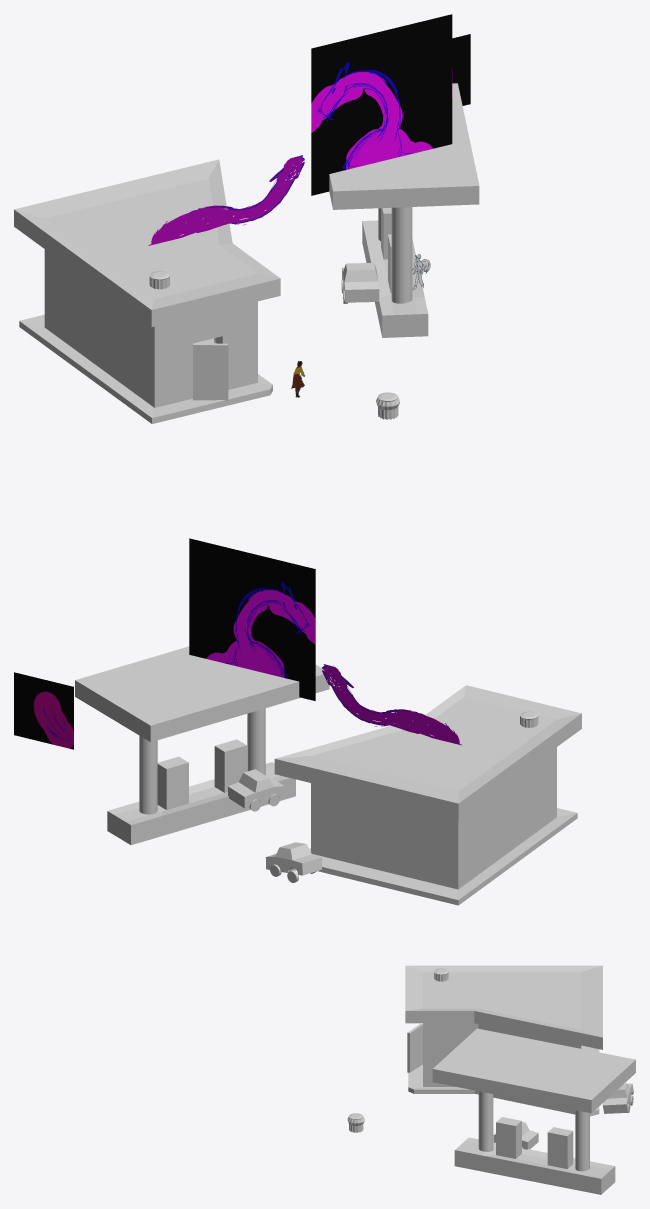
3 views of the same model, one above another, from view 1: azimuth 30°, elevation 25°; view 2: azimuth 150°, elevation 25°; view 3: azimuth 270°, elevation 25° (orthographic). The views are drawn at different scales.
Parts seen in each view (by area): view 1: building.001, right_dragon_front.001, carport_roof.001, carport_base.001, left_dragon.002, carport_pillar_near.001, door.001, car_body.001, right_dragon_tail.001; view 2: building.001, right_dragon_front.001, carport_roof.001, carport_base.001, right_dragon_tail.001, left_dragon.002, carport_pillar_far.001, car_body.001, wrecked_car_body.001, carport_pillar_near.001; view 3: building.001, carport_roof.001, carport_base.001, carport_pillar_near.001, carport_pillar_far.001, door.001, wrecked_car_body.001.
Boxes of the visible parts, left/top/right/bottom form: building.001: left=14, top=159, right=280, bottom=423; right_dragon_front.001: left=311, top=14, right=452, bottom=195; carport_roof.001: left=329, top=83, right=479, bottom=209; carport_base.001: left=362, top=207, right=428, bottom=337; left_dragon.002: left=148, top=155, right=304, bottom=245; carport_pillar_near.001: left=391, top=207, right=412, bottom=303; door.001: left=193, top=343, right=228, bottom=400; car_body.001: left=342, top=263, right=379, bottom=302; right_dragon_tail.001: left=452, top=34, right=470, bottom=105; building.001: left=274, top=685, right=581, bottom=905; right_dragon_front.001: left=189, top=538, right=315, bottom=700; carport_roof.001: left=75, top=646, right=329, bottom=742; carport_base.001: left=107, top=739, right=295, bottom=845; right_dragon_tail.001: left=14, top=672, right=73, bottom=749; left_dragon.002: left=322, top=664, right=461, bottom=745; carport_pillar_far.001: left=139, top=735, right=157, bottom=814; car_body.001: left=228, top=769, right=284, bottom=808; wrecked_car_body.001: left=265, top=842, right=321, bottom=875; carport_pillar_near.001: left=247, top=708, right=265, bottom=775; building.001: left=405, top=965, right=602, bottom=1116; carport_roof.001: left=432, top=1028, right=635, bottom=1113; carport_base.001: left=454, top=1117, right=615, bottom=1194; carport_pillar_near.001: left=478, top=1091, right=493, bottom=1151; carport_pillar_far.001: left=575, top=1110, right=589, bottom=1171; door.001: left=407, top=1023, right=422, bottom=1072; wrecked_car_body.001: left=602, top=1083, right=633, bottom=1113.
Size of what is drawn, in the model's own units: 5377 by 3080 by 8463.
